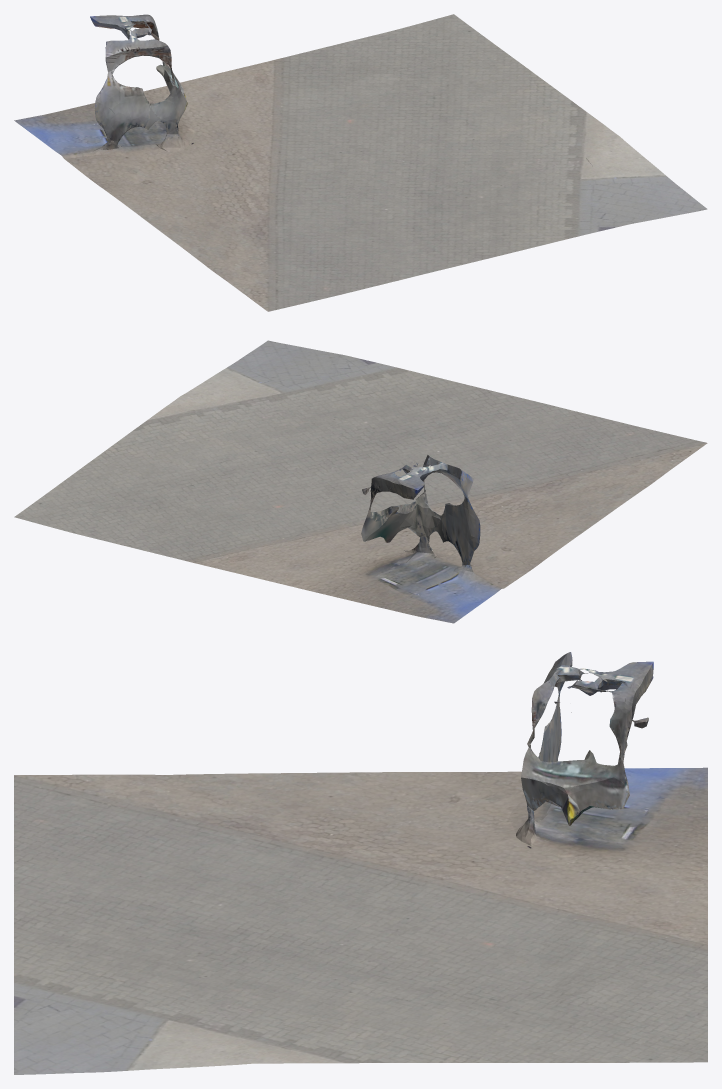
3 renders of one model, top to bottom at view 1: azimuth 30°, elevation 25°; view 2: azimuth 150°, elevation 25°; view 3: azimuth 270°, elevation 25°, orthographic. The views are drawn at different scales.
Bounding box in the file's own units: 8.36 × 2.12 × 8.36.
Materials: 3 (3 with a texture image).
